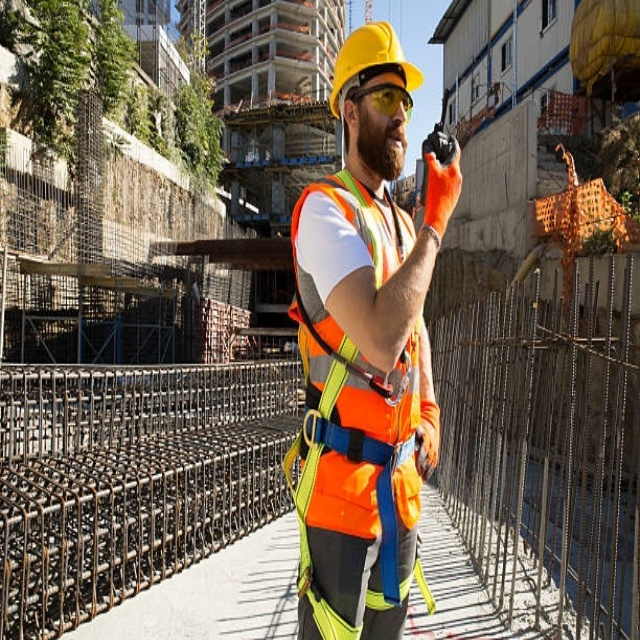Gafas: (352, 85, 415, 121)
Guantes: (422, 145, 463, 242), (415, 399, 441, 472)
Sin_mascara: (384, 125, 410, 166)
